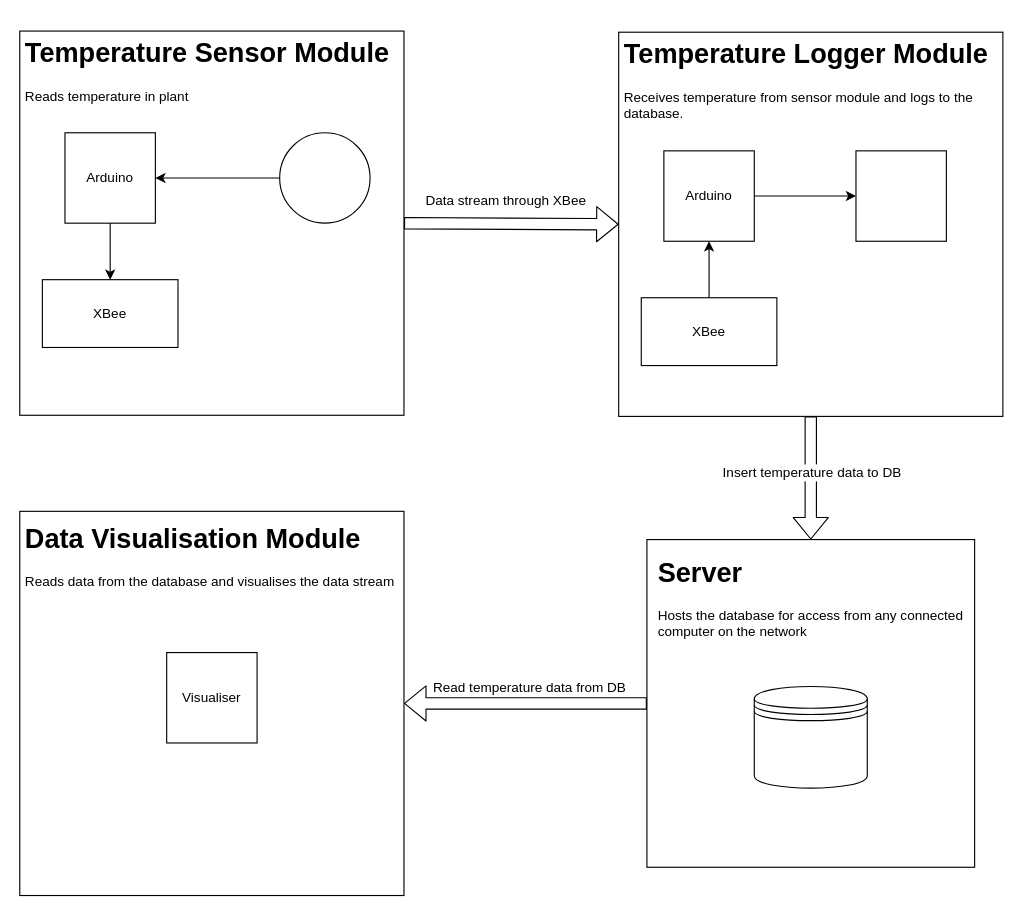
Image size: 1023x915. Some labels were removed from this diagram. Here are the shapes that lost their labels. From the top down, the centre of each, then its label:
the point at 324,177: Temperature sensor
the point at 900,195: Logger
the point at 810,736: DB
